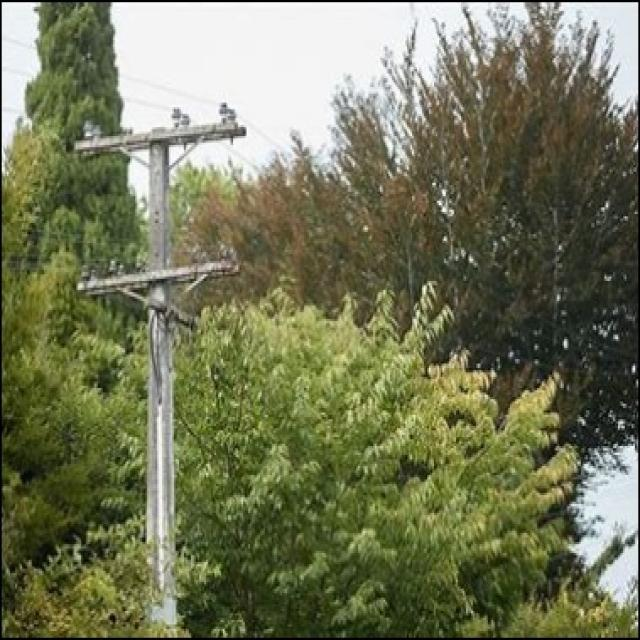utility poles: (79, 84, 257, 636)
